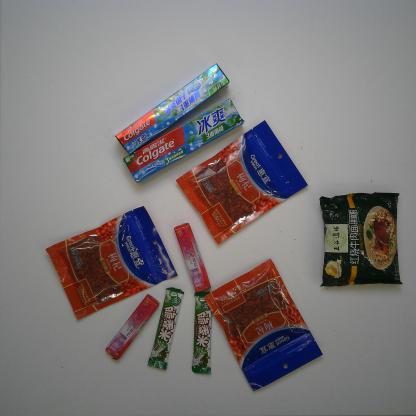Candy: (169, 214, 219, 293), (107, 294, 158, 363)
Chocolate: (184, 286, 218, 378), (151, 282, 184, 371)
Dried Fruit: (176, 118, 310, 247), (205, 258, 325, 392), (40, 205, 178, 319)
Instant Noodles: (316, 177, 405, 295)
Personal Hygiene: (104, 58, 238, 148), (121, 99, 244, 184)
